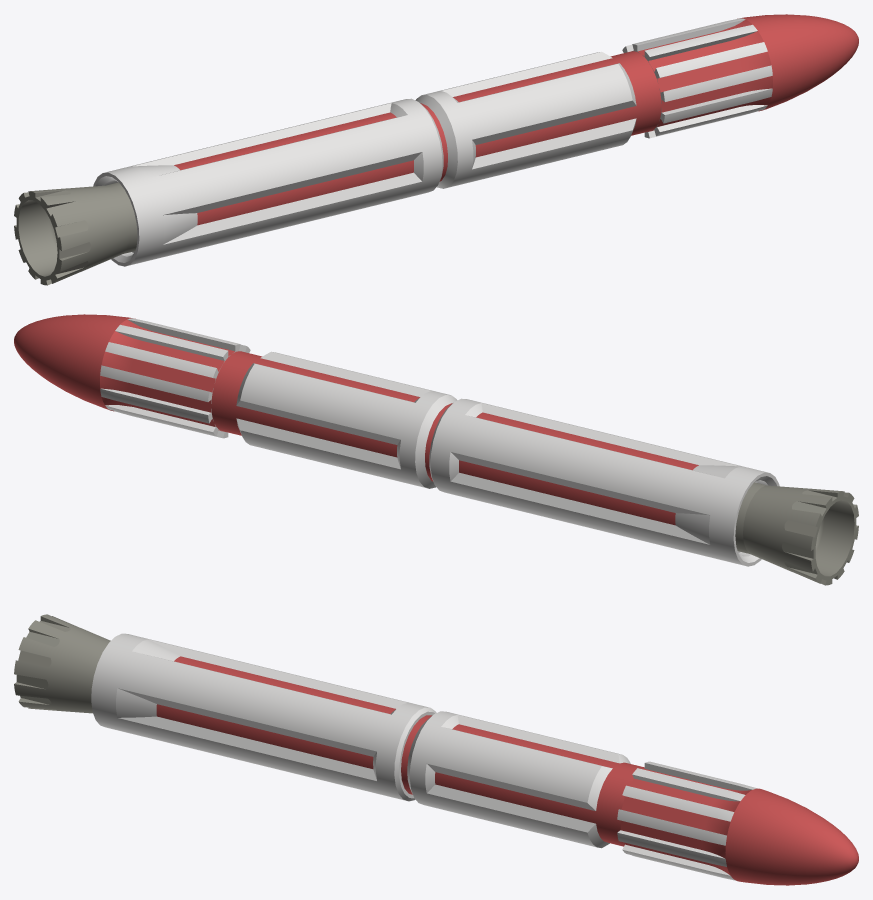
File: missile.fbx
The picture shows the model from 3 angles, top to bottom: view 1: azimuth 30°, elevation 25°; view 2: azimuth 150°, elevation 25°; view 3: azimuth 330°, elevation 25°; orthographic projection.
Visible parts, largest first — view 1: brian's dodecagon ship v2 missile; view 2: brian's dodecagon ship v2 missile; view 3: brian's dodecagon ship v2 missile.
Boxes of the visible parts, x1,y1,x2,y2 form: brian's dodecagon ship v2 missile: [14, 14, 858, 285]; brian's dodecagon ship v2 missile: [14, 314, 858, 585]; brian's dodecagon ship v2 missile: [14, 614, 858, 885].
Size of the model in its own units: 1325 by 135 by 135.
